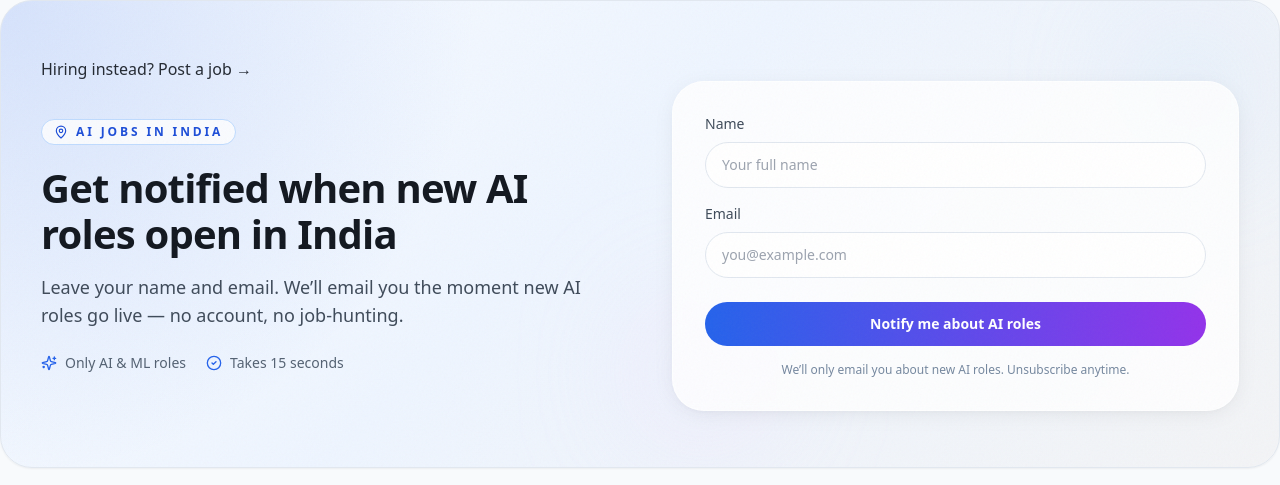
Test case: CandidateSignupHero › submits just the name and email, then shows the done state
Type "Ravi Menon" into the field labelled "Name".
click(956, 165); type("Ravi Menon")  # box x1=705 y1=142 x2=1206 y2=188
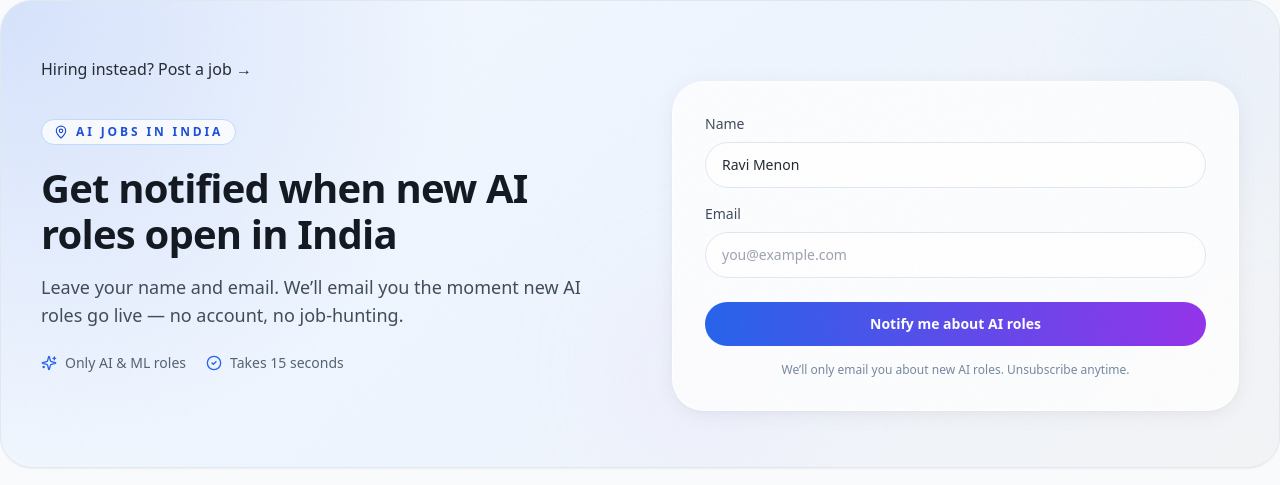
Type "ravi@example.com" into the field labelled "Email".
click(956, 255); type("ravi@example.com")  # box x1=705 y1=232 x2=1206 y2=278
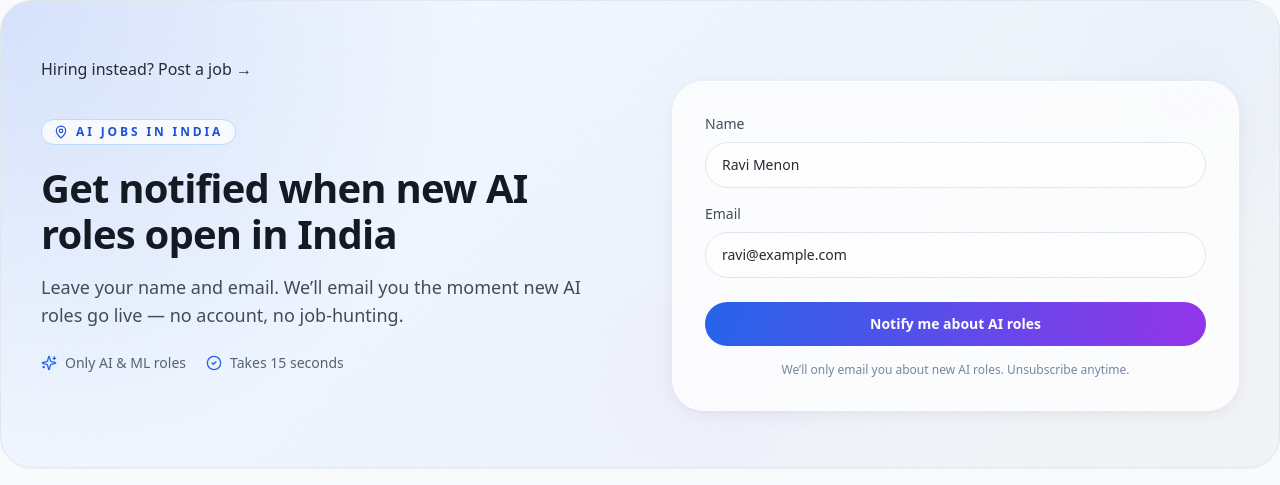
Click the button "Notify me about AI roles".
click(956, 324)  # box x1=705 y1=302 x2=1206 y2=346
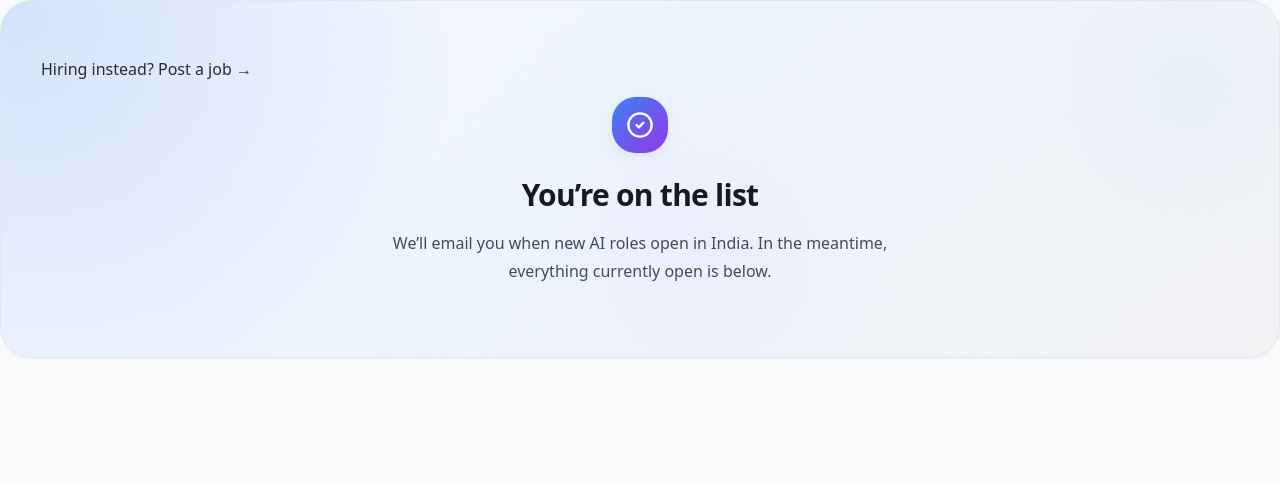
Expected: the heading "You’re on the list" is shown, x1=522 y1=174 x2=758 y2=215
